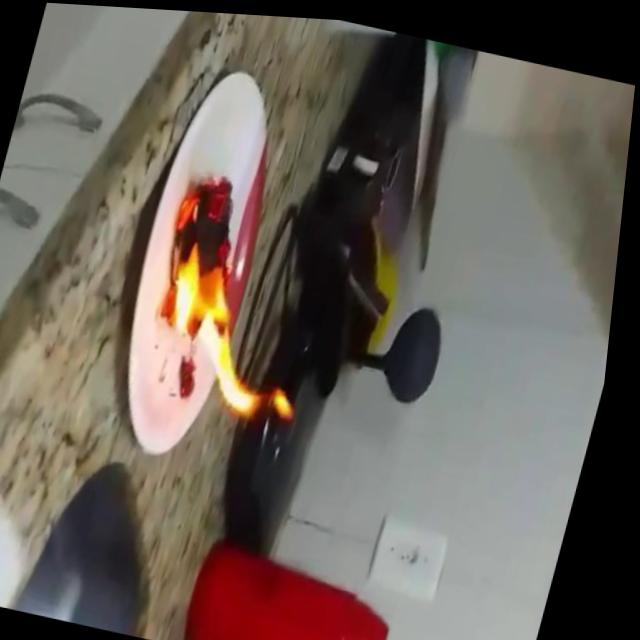Fire: (132, 161, 358, 430)
